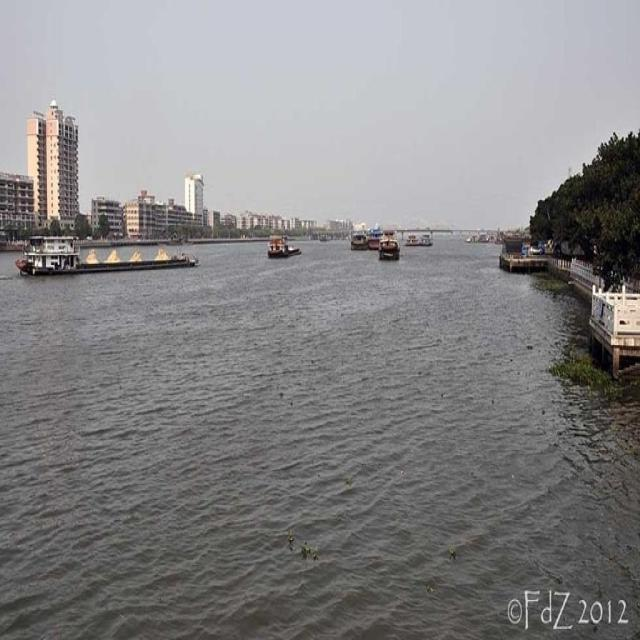boat: (13, 235, 204, 277), (264, 236, 303, 260), (372, 238, 404, 265), (347, 229, 369, 253), (418, 229, 438, 250), (405, 230, 418, 248)
